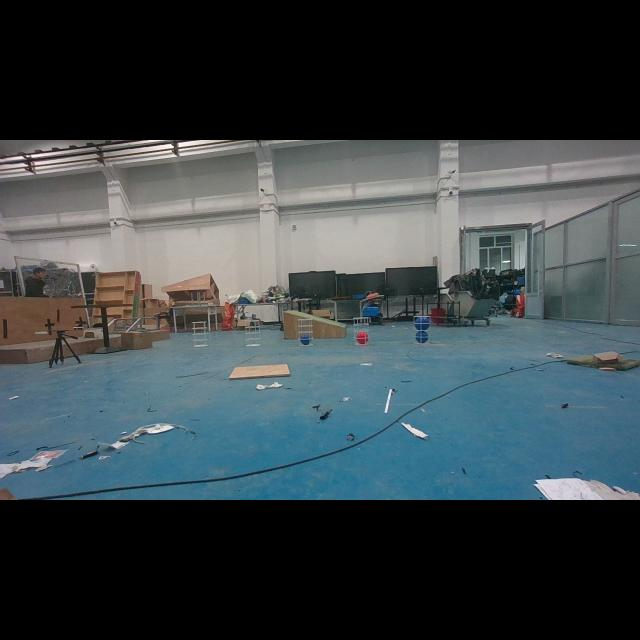B: (414, 316, 431, 329), (414, 331, 432, 343), (300, 334, 312, 346)
R: (356, 332, 368, 343)
S: (411, 314, 435, 348), (351, 315, 373, 347), (243, 318, 263, 348), (297, 317, 315, 349), (190, 320, 210, 348)
